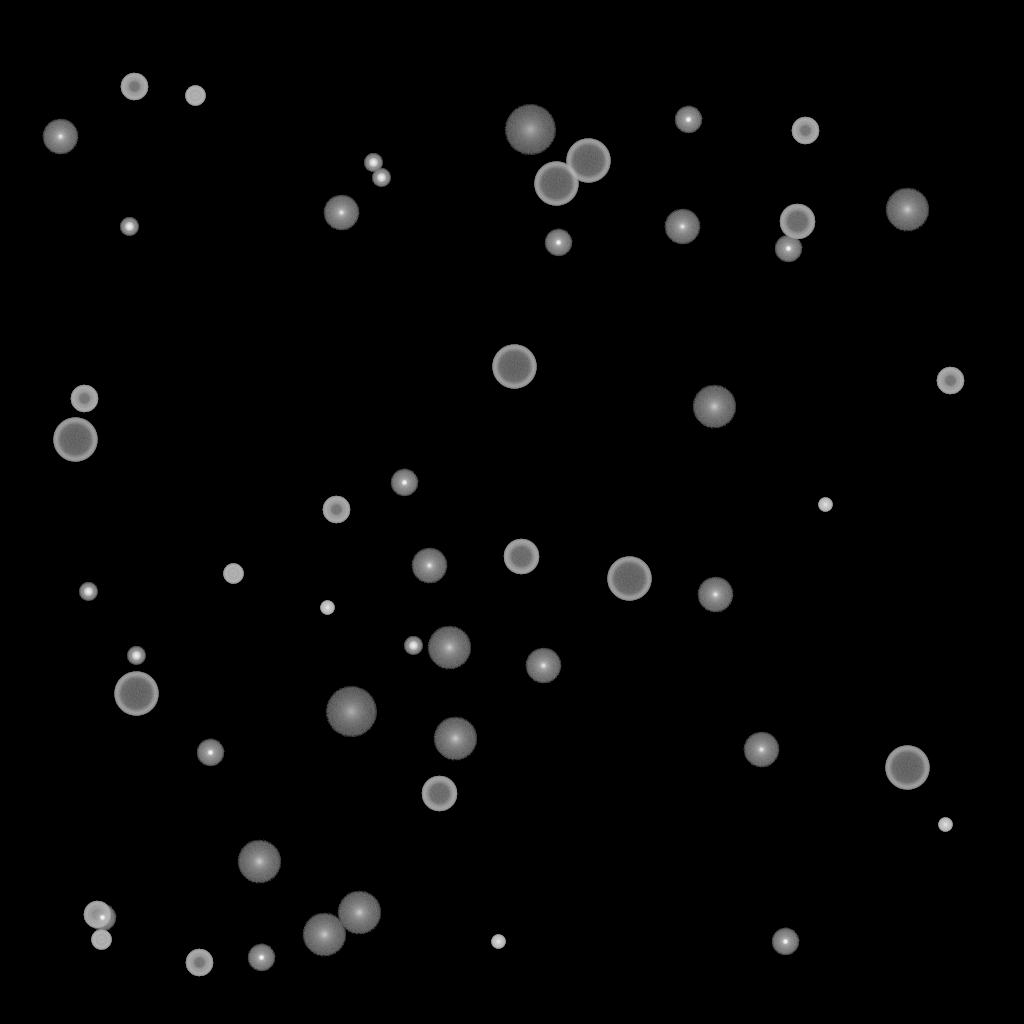depth:-10: (544, 229, 572, 257), (674, 106, 702, 134), (771, 928, 799, 956), (390, 469, 418, 497), (196, 739, 224, 767), (774, 235, 802, 263), (247, 944, 275, 972), (88, 904, 116, 932)
depth:-20: (372, 169, 390, 187), (79, 583, 97, 601), (404, 637, 422, 655), (127, 647, 145, 665), (120, 218, 138, 236), (364, 154, 382, 172)
depth:-30: (938, 818, 952, 832), (320, 601, 334, 615), (491, 935, 505, 949), (818, 498, 832, 512)
depth:-40: (185, 86, 205, 106), (223, 564, 243, 584), (91, 930, 111, 950)
depth:-50: (83, 901, 111, 929), (120, 73, 148, 101), (936, 367, 964, 395), (322, 496, 350, 524), (791, 117, 819, 145), (70, 385, 98, 413), (185, 949, 213, 977)
depth:-60: (503, 539, 539, 575), (779, 204, 815, 240), (421, 776, 457, 812)
depth:-70: (607, 557, 651, 601), (566, 139, 610, 183), (114, 672, 158, 716), (534, 162, 578, 206), (885, 746, 929, 790), (53, 418, 97, 462), (492, 345, 536, 389)
depth:0: (743, 732, 779, 768), (697, 577, 733, 613), (664, 209, 700, 245), (411, 548, 447, 584), (525, 648, 561, 684), (42, 119, 78, 155), (323, 195, 359, 231)
depth:10: (427, 626, 471, 670), (302, 913, 346, 957), (337, 891, 381, 935), (237, 840, 281, 884), (692, 385, 736, 429), (433, 717, 477, 761), (885, 188, 929, 232)
depth:20: (325, 687, 377, 737), (504, 105, 556, 155)
